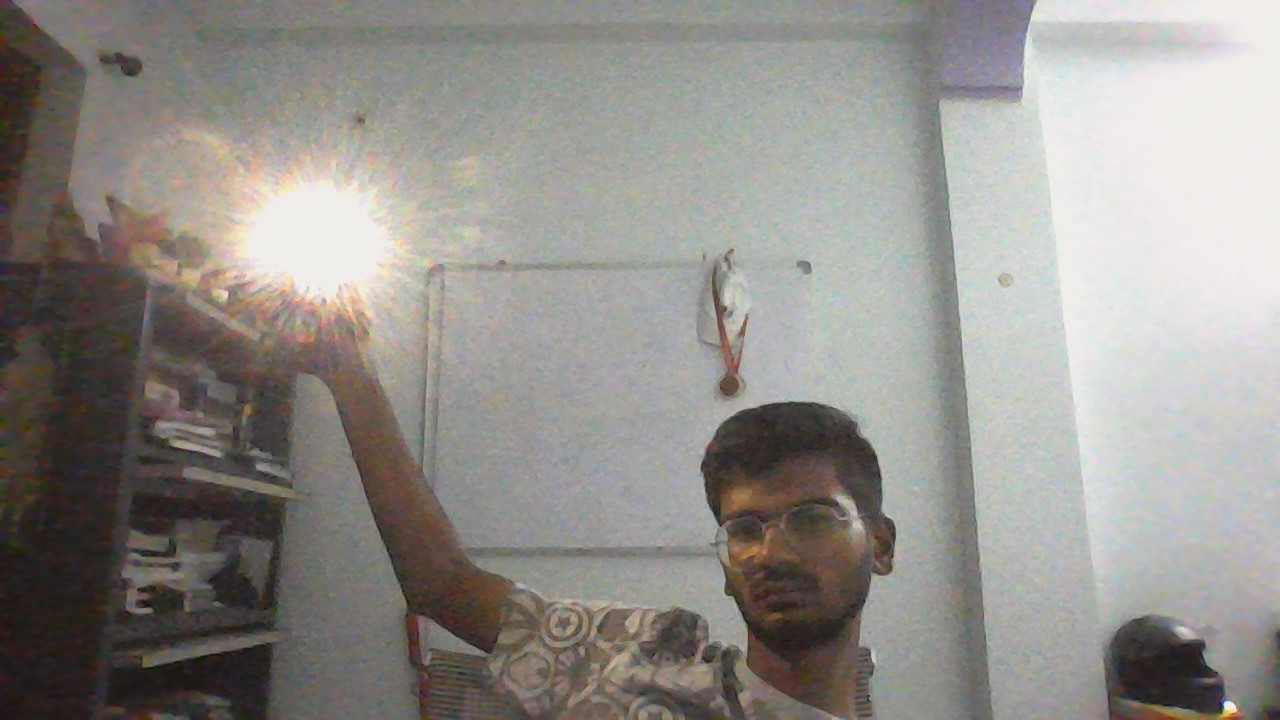Glare: (242, 176, 397, 298)
